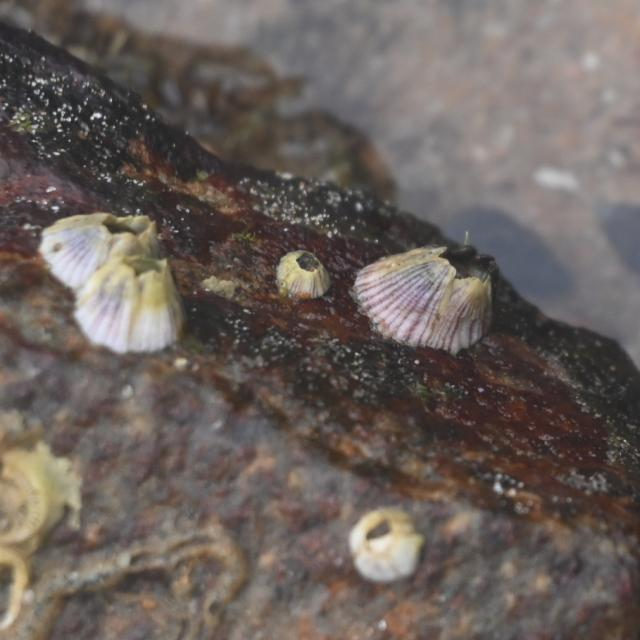barnacles: (352, 225, 504, 369), (80, 258, 184, 358), (38, 193, 169, 270), (341, 488, 418, 595), (260, 235, 324, 315)
